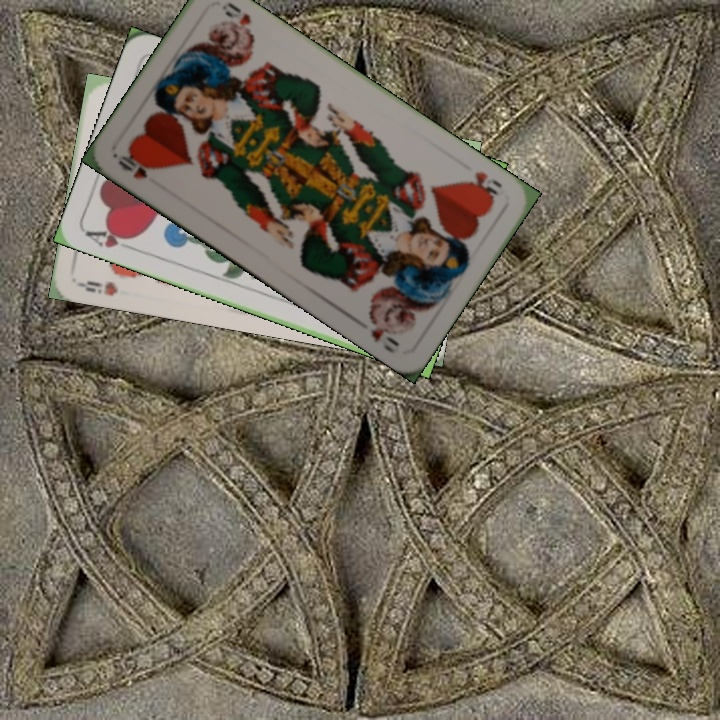H9: (75, 277, 120, 298)
HA: (81, 223, 140, 254)
HO: (460, 167, 505, 203), (113, 151, 156, 182)
